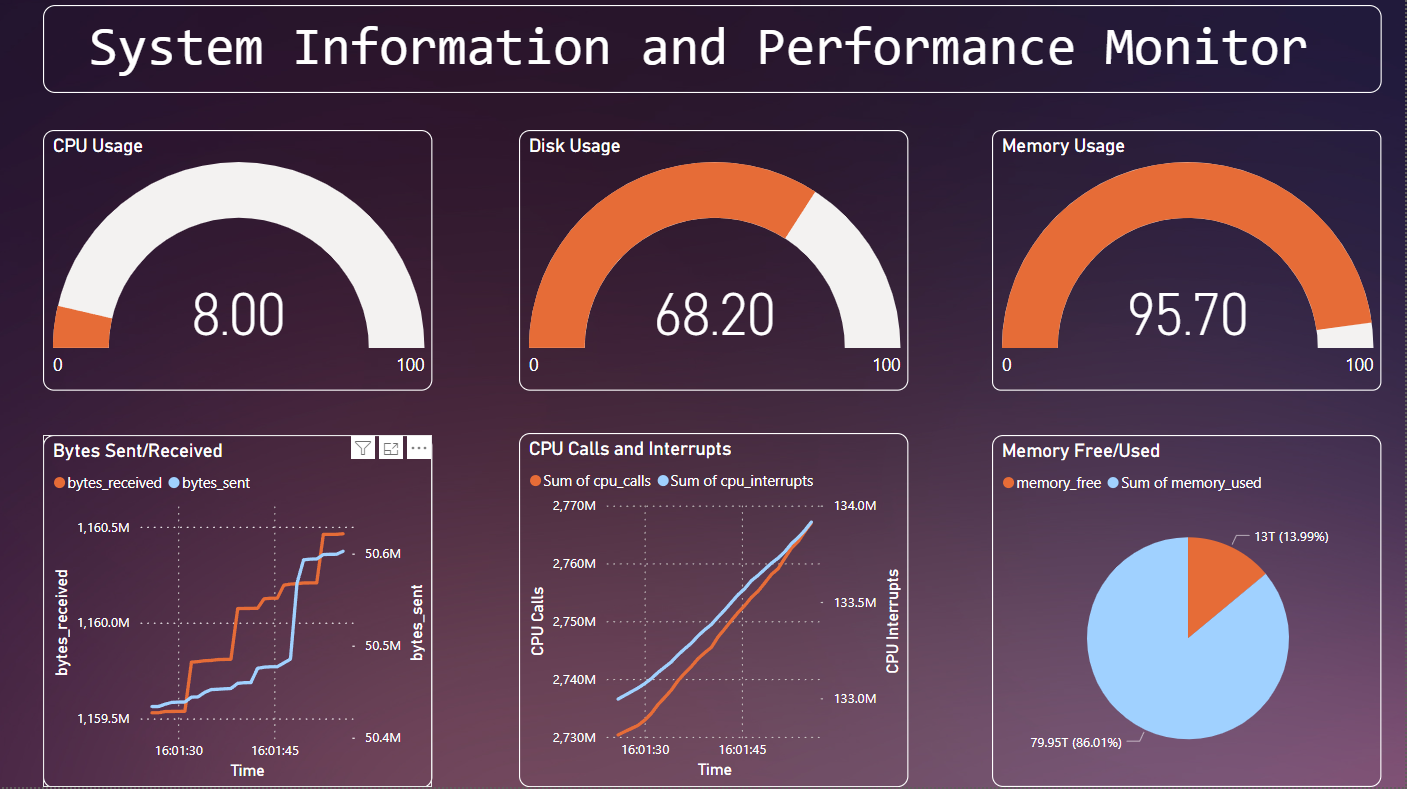

This screenshot's page, from the dashboard's own definition file:
{"tool":"powerbi","page":{"name":"Page 1","canvas":[1280,720],"ordinal":0},"visuals":[{"type":"textbox","box":[41.6,9.4,1216.5,80.1],"z":0},{"type":"gauge","title":"CPU Usage","fields":{"Y":["Performance.cpu_usage_latest"],"MinValue":["Performance.min_value"],"MaxValue":["Performance.max_value"]},"box":[41.6,122.8,353.8,237.3],"z":1000},{"type":"gauge","title":"Disk Usage","fields":{"Y":["Performance.disk_usage_latest"],"MinValue":["Performance.min_value"],"MaxValue":["Performance.max_value"]},"box":[474.5,122.8,353.8,237.3],"z":2000},{"type":"gauge","title":"Memory Usage","fields":{"Y":["Performance.memory_usage_latest"],"MinValue":["Performance.min_value"],"MaxValue":["Performance.max_value"]},"box":[904.3,122.8,353.8,237.3],"z":3000},{"type":"lineChart","title":"Bytes Sent/Received","fields":{"Y":["Sum(Performance.bytes_received)"],"Y2":["Sum(Performance.bytes_sent)"],"Category":["Performance.Time"]},"box":[41.6,399.6,353.8,320.5],"z":4000},{"type":"lineChart","title":"CPU Calls and Interrupts","fields":{"Category":["Performance.Time"],"Y2":["Sum(Performance.cpu_interrupts)"],"Y":["Sum(Performance.cpu_calls)"]},"box":[474.5,398.6,353.8,321.6],"z":5000},{"type":"pieChart","title":"Memory Free/Used","fields":{"Y":["Sum(Performance.memory_free)","Sum(Performance.memory_used)"]},"box":[904.4,400,354.4,320],"z":6000}]}

Visuals, with their boxes in screenshot pixels (x1, y1, x2, y2), scaled from the page's 1280x720 canvas onto the 1407x789 screenshot:
textbox: x1=46 y1=10 x2=1383 y2=98
"CPU Usage" gauge: x1=46 y1=135 x2=435 y2=395
"Disk Usage" gauge: x1=522 y1=135 x2=910 y2=395
"Memory Usage" gauge: x1=994 y1=135 x2=1383 y2=395
"Bytes Sent/Received" lineChart: x1=46 y1=438 x2=435 y2=788
"CPU Calls and Interrupts" lineChart: x1=522 y1=437 x2=910 y2=788
"Memory Free/Used" pieChart: x1=994 y1=438 x2=1384 y2=788
